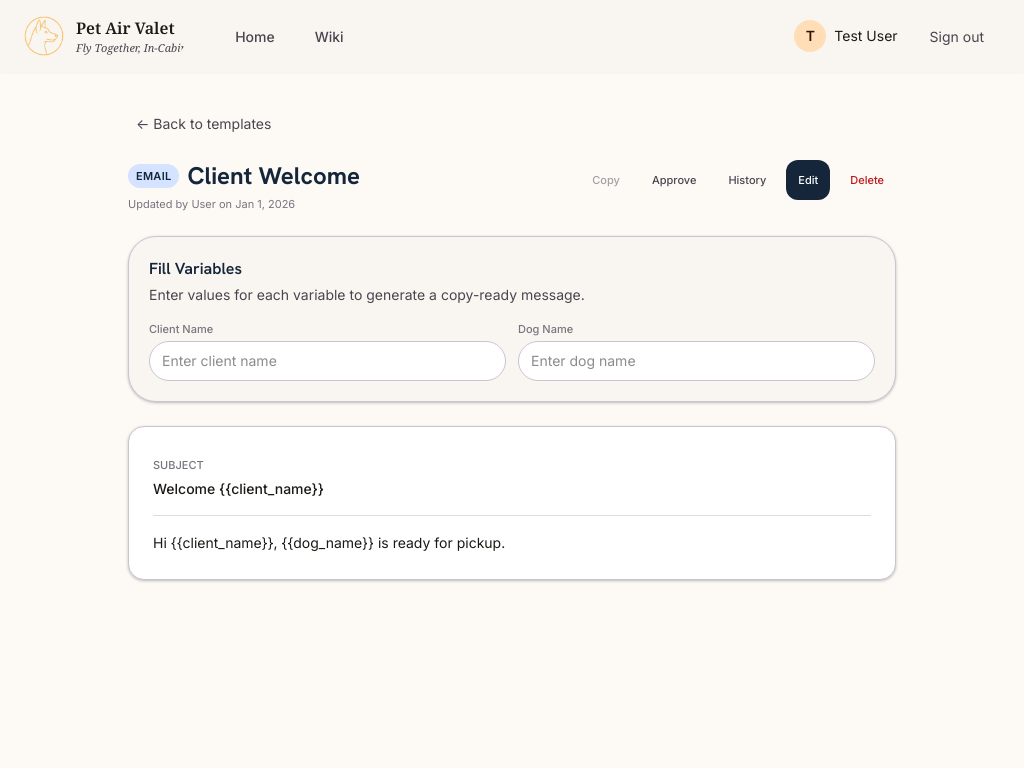
Test: TemplateEditPage › requires filling all variables before copy works
The image size is (1024, 768).
Expected: the heading "Fill Variables" is shown, left=149, top=258, right=242, bottom=279
Expected: the button "Copy" is disabled, left=580, top=160, right=632, bottom=200
Type "Ava" into the field labelled "Client Name". click: (328, 361)
box: left=149, top=341, right=506, bottom=381
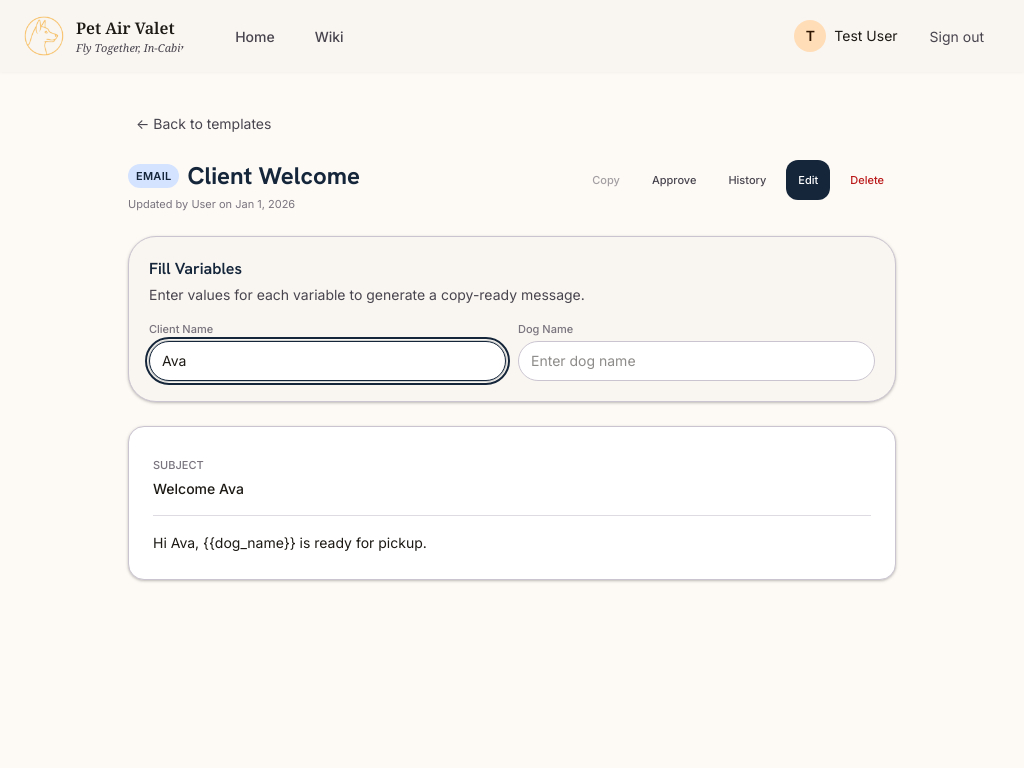
Expected: the button "Copy" is disabled, left=580, top=160, right=632, bottom=200
Type "Luna" into the field labelled "Dog Name". click: (696, 361)
box: left=518, top=341, right=875, bottom=381
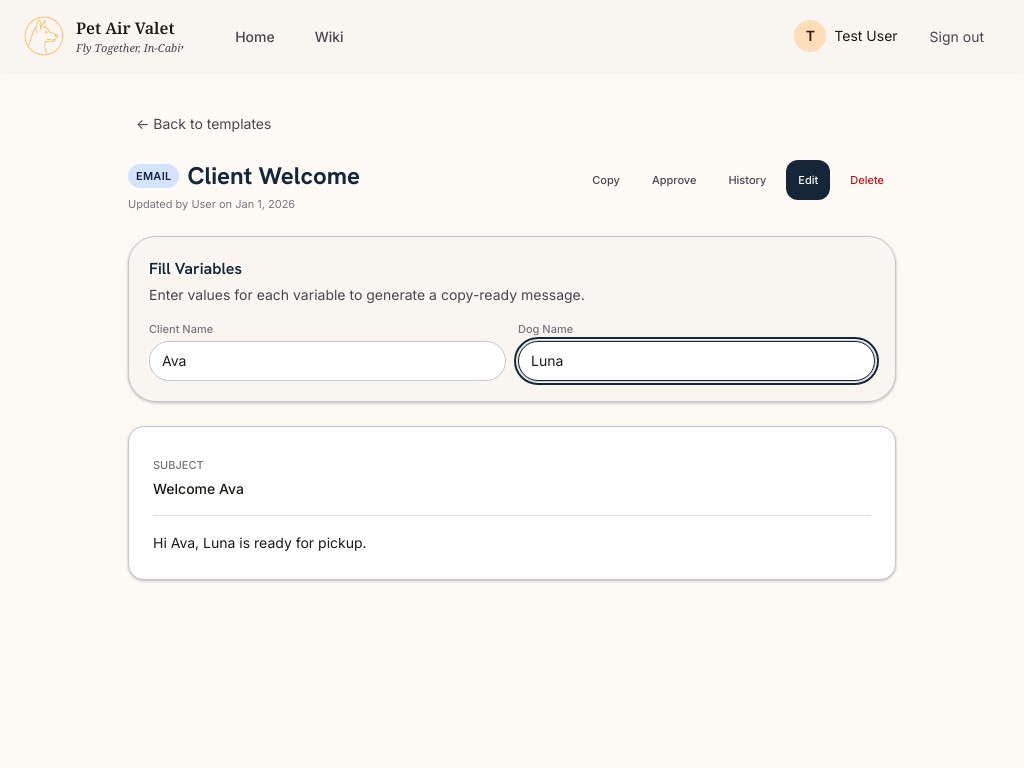
Expected: the button "Copy" is enabled
Click the button "Copy". click: click(606, 180)
box: left=580, top=160, right=632, bottom=200
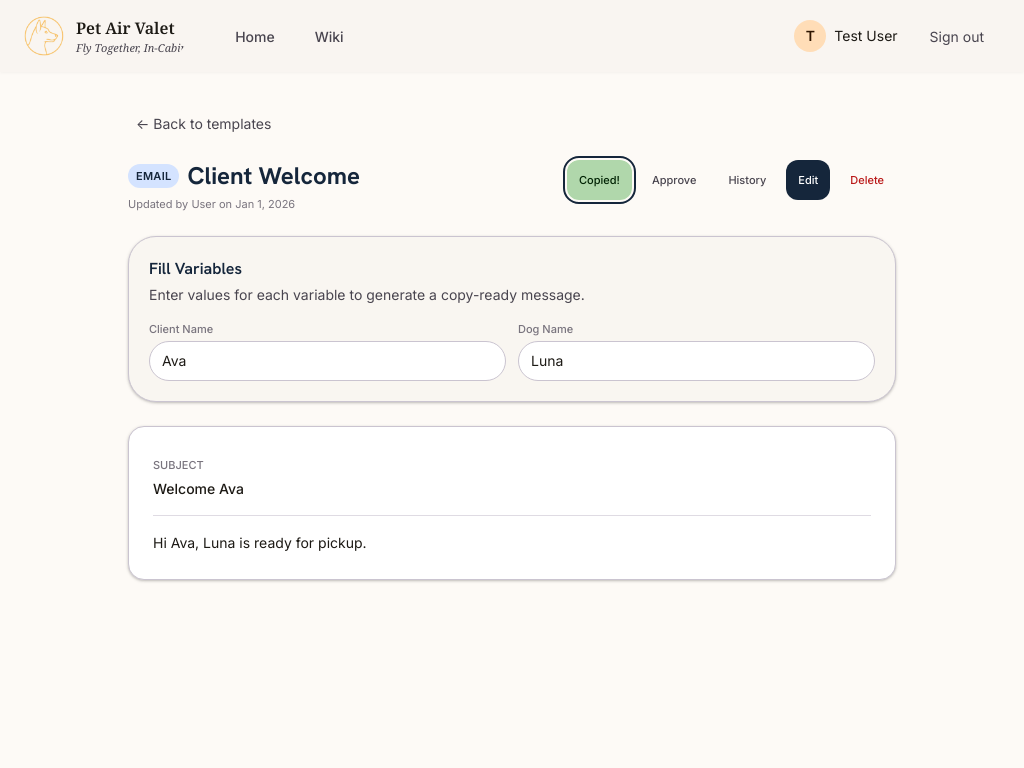
Expected: the text "Welcome Ava" is shown, left=153, top=480, right=244, bottom=497
Expected: the text "Hi Ava, Luna is ready for pickup." is shown, left=153, top=534, right=367, bottom=551
Expected: the button "Copied!" is shown, left=567, top=160, right=632, bottom=200
